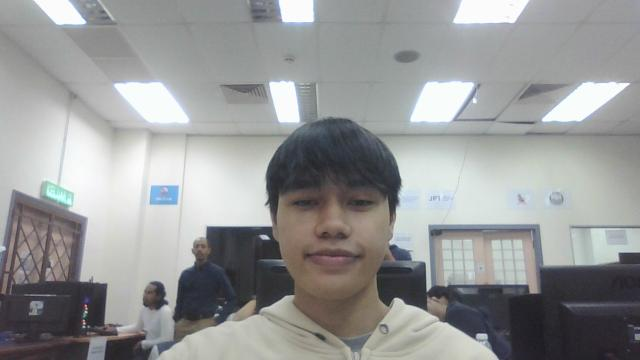senang: (247, 114, 422, 318)
